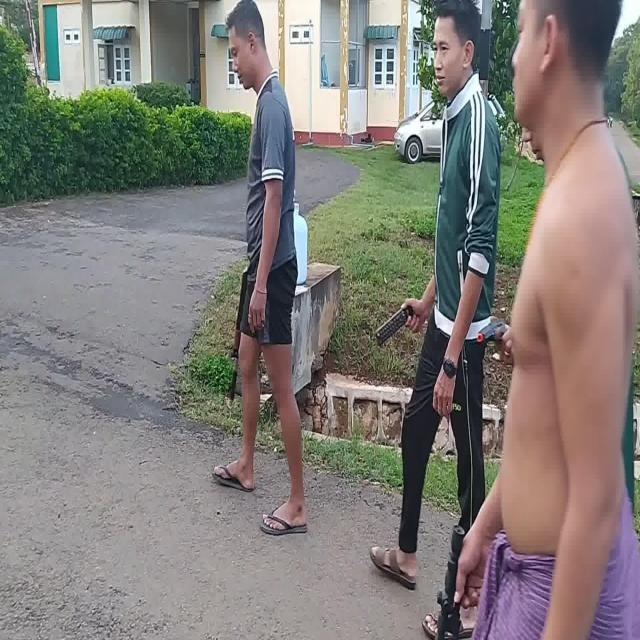gun: (229, 269, 249, 400), (476, 318, 506, 344)
